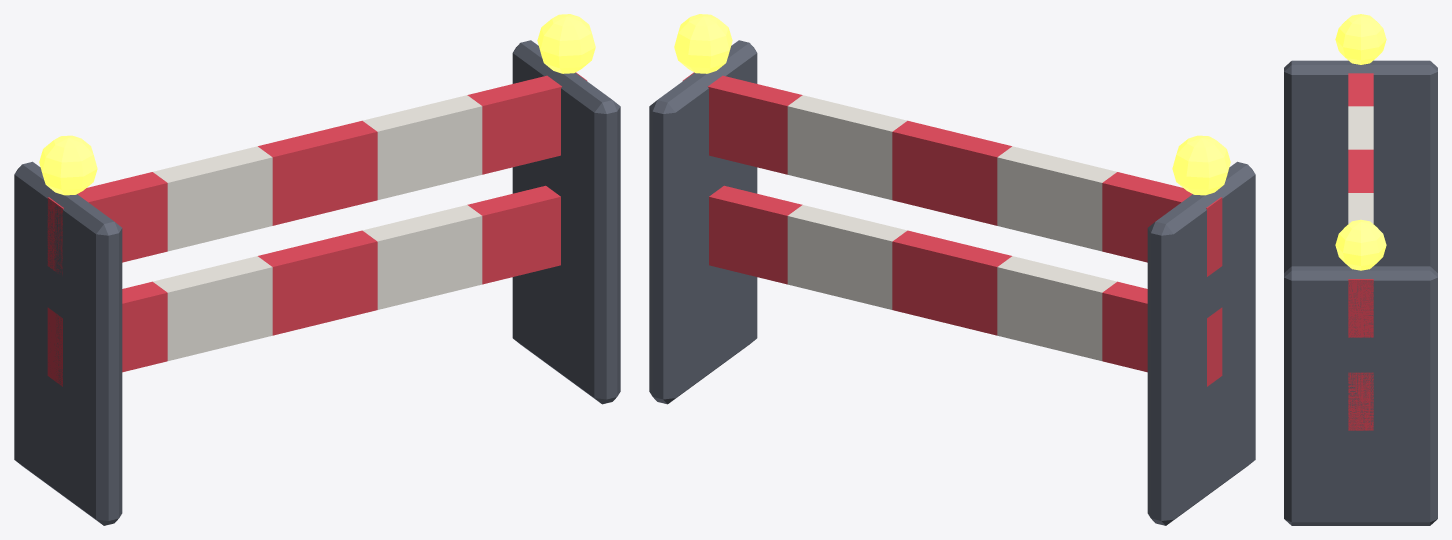
The model's file is prop_barrier.glb.
3 views of the same model, side by side, from view 1: azimuth 30°, elevation 25°; view 2: azimuth 150°, elevation 25°; view 3: azimuth 270°, elevation 25° (orthographic). The views are drawn at different scales.
Parts seen in each view (by area): view 1: prop_barrier; view 2: prop_barrier; view 3: prop_barrier.
Part boxes in pixels (<box>): prop_barrier: <box>14,14,620,525</box>; prop_barrier: <box>649,14,1255,525</box>; prop_barrier: <box>1284,14,1437,525</box>.
Bounding box in the file's own units: 2.1 × 1.3 × 0.6.
